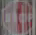Stop: (1, 5, 35, 31)
